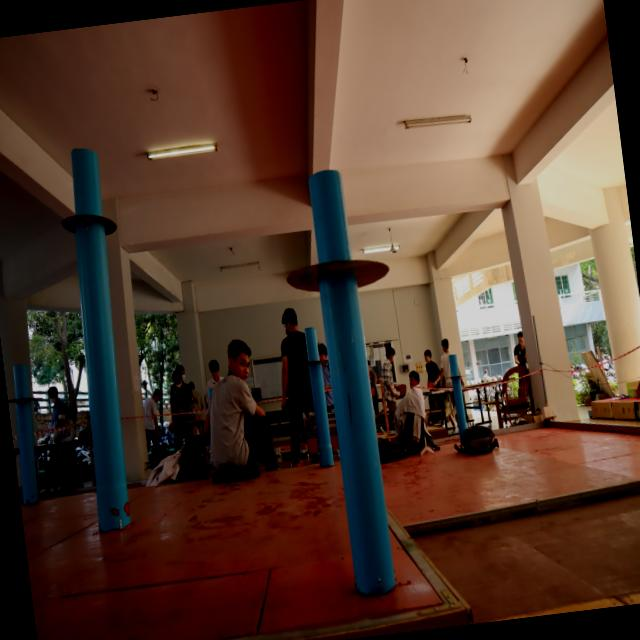pole: (273, 156, 399, 348), (38, 140, 130, 295), (5, 358, 46, 424), (442, 345, 472, 397), (304, 324, 326, 386)
